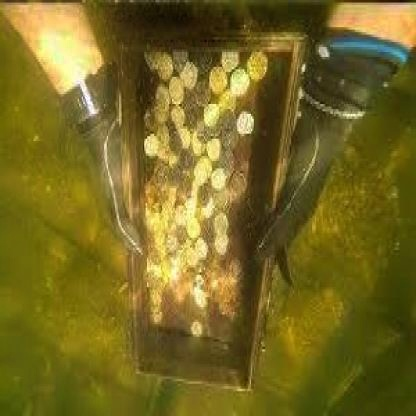metal: (137, 44, 269, 346)
